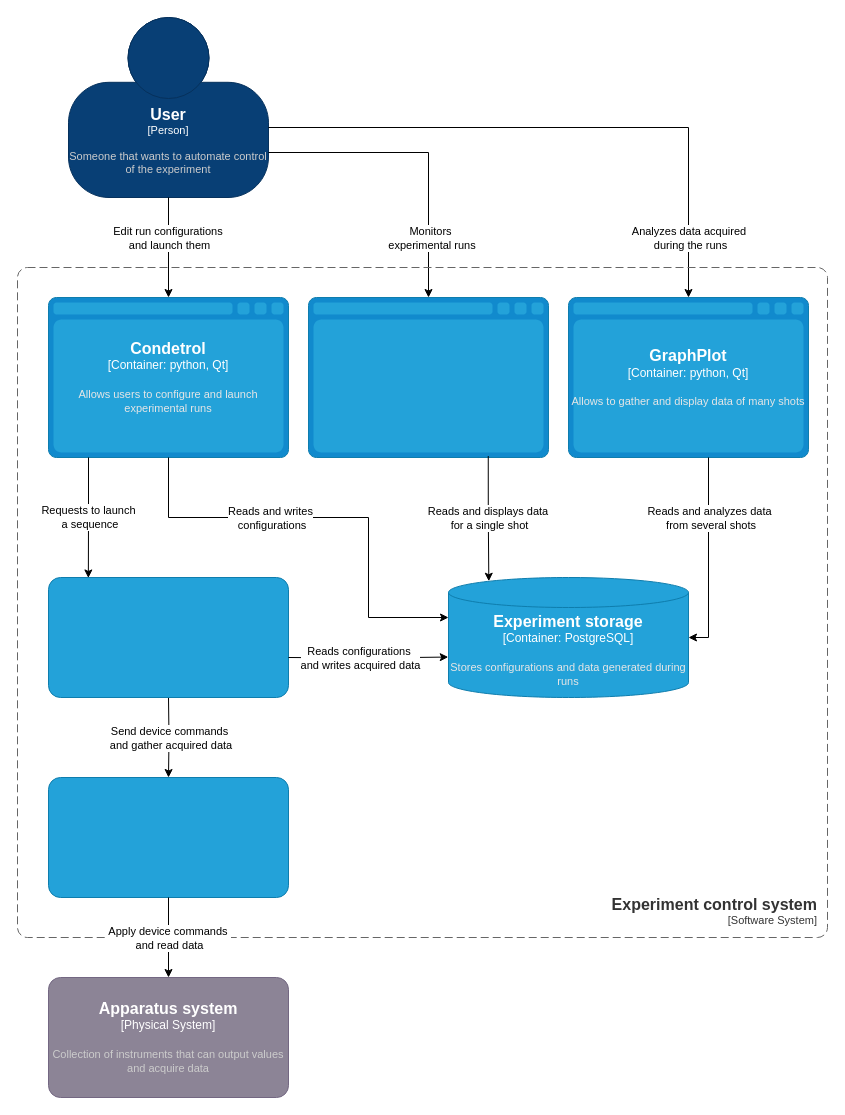
The diagram is 845 pixels wide and 1115 high, and some of its shapes have lost their labels. Each missing label, with the centre of its shape:
"Device server [Container: python] Control a collection of instruments" belongs at point (168, 837).
"Experiment manager [Container: python] Manage sequences running on the apparatus" belongs at point (168, 637).
"SnapShot [Container: python, Qt] Allows to view data generated for a single shot" belongs at point (428, 377).
